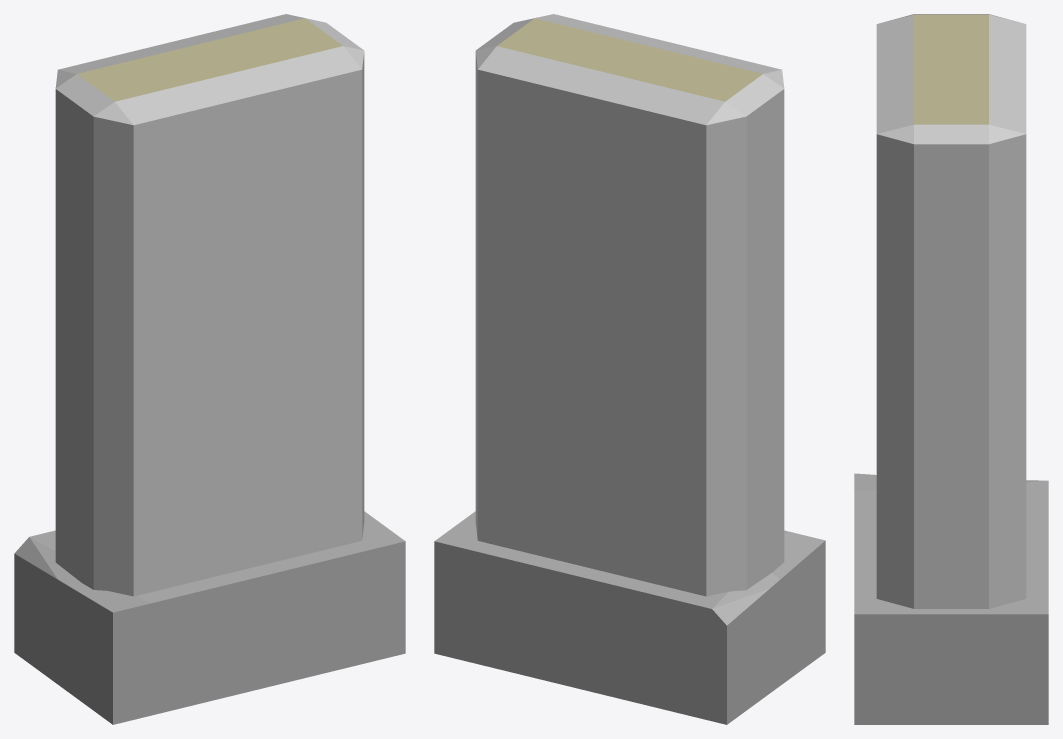
The model's file is utility_box_001.obj.
3 views of the same model, side by side, from view 1: azimuth 30°, elevation 25°; view 2: azimuth 150°, elevation 25°; view 3: azimuth 270°, elevation 25° (orthographic).
Parts seen in each view (by area): view 1: pCube1, pCube2; view 2: pCube1, pCube2; view 3: pCube1, pCube2.
Boxes of the visible parts, x1,y1,x2,y2 form: pCube1: (55, 14, 364, 596); pCube2: (14, 511, 405, 724); pCube1: (475, 14, 784, 596); pCube2: (434, 511, 825, 724); pCube1: (876, 14, 1026, 608); pCube2: (854, 473, 1048, 724).
Bounding box in the file's own units: 2.22 × 4.31 × 1.3.
